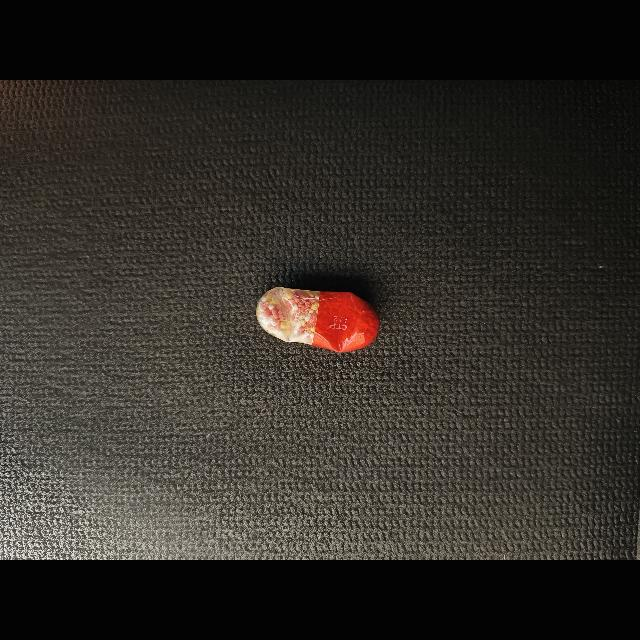Defective Capsule: (256, 287, 379, 353)
